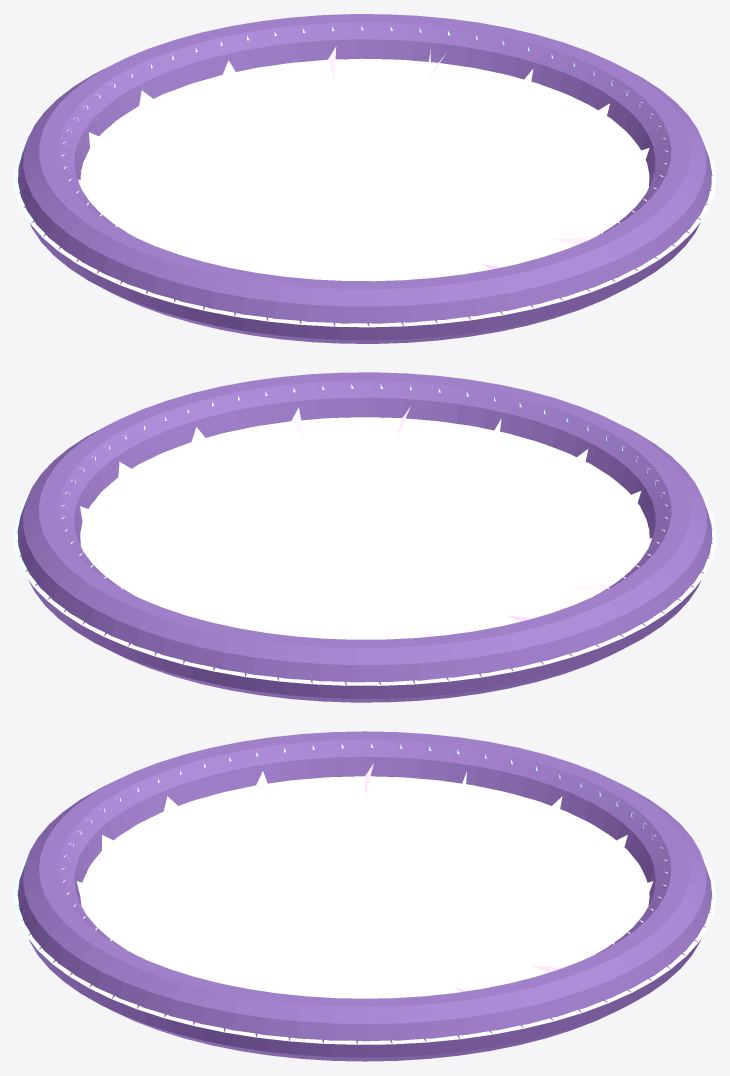
Rendered from wormhole_ring.glb.
3 views of the same model, one above another, from view 1: azimuth 30°, elevation 25°; view 2: azimuth 150°, elevation 25°; view 3: azimuth 270°, elevation 25° (orthographic).
Visible parts, largest first — view 1: wormhole_ring; view 2: wormhole_ring; view 3: wormhole_ring.
Boxes of the visible parts, box(x1,y1,x2,y2) form: wormhole_ring: box(14, 14, 715, 343); wormhole_ring: box(14, 372, 715, 702); wormhole_ring: box(14, 731, 715, 1061).
Size of the model in its own units: 26.63 by 2.29 by 26.63.
